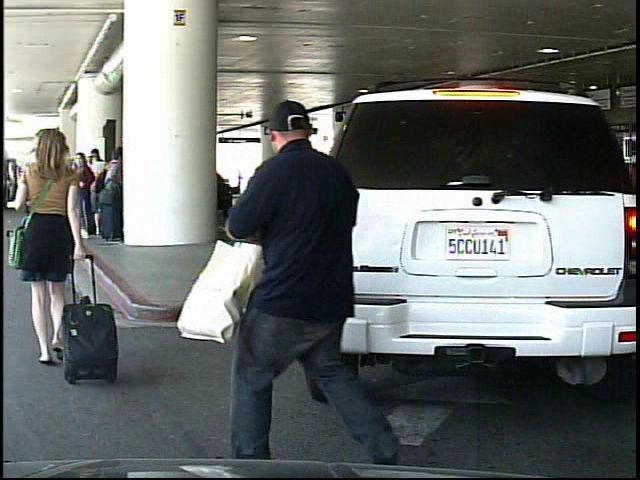person: (230, 90, 392, 467), (5, 125, 98, 394)
